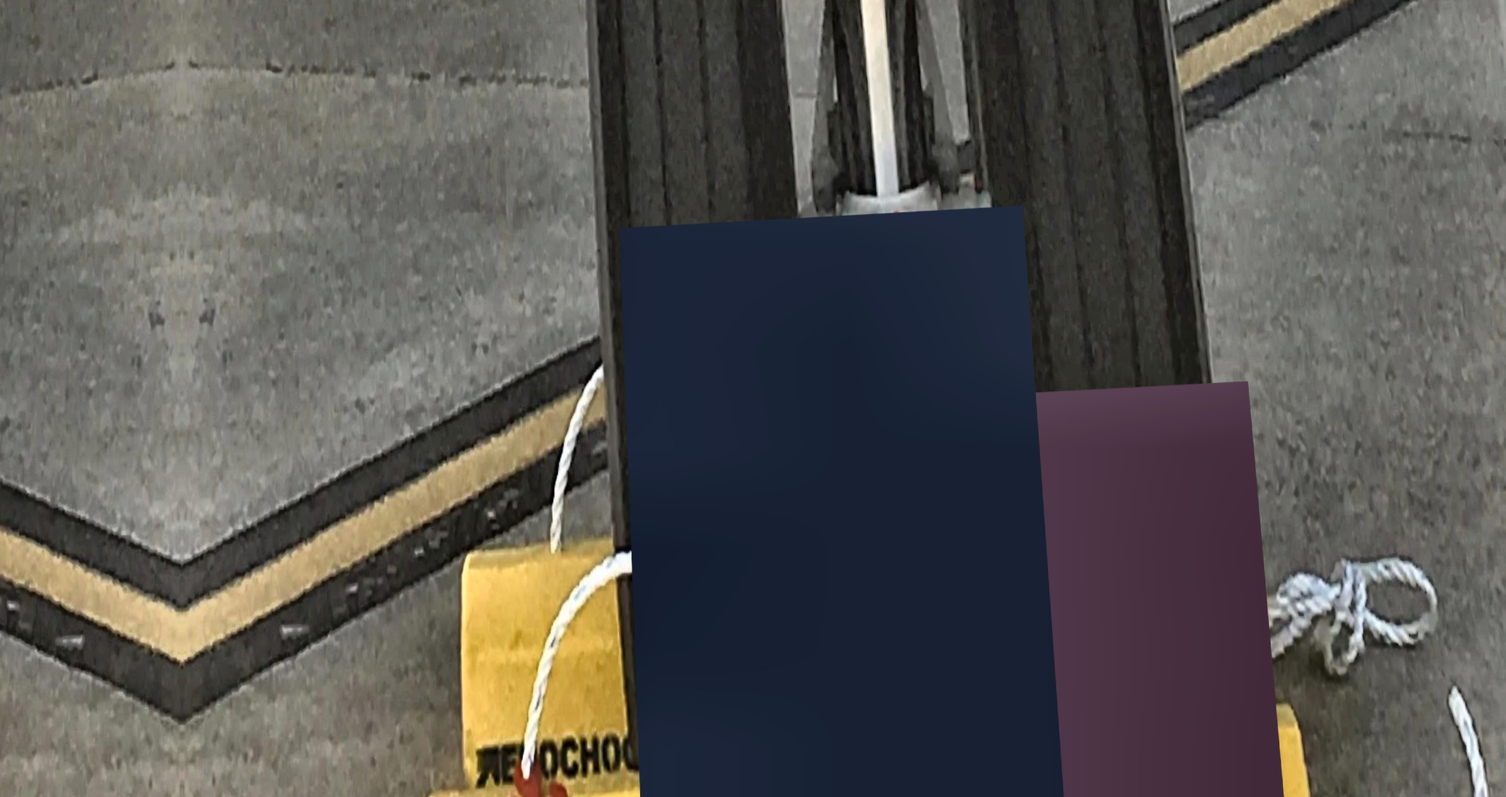chock: (453, 492, 1258, 787)
wheel: (939, 0, 1239, 732), (574, 0, 832, 773)
